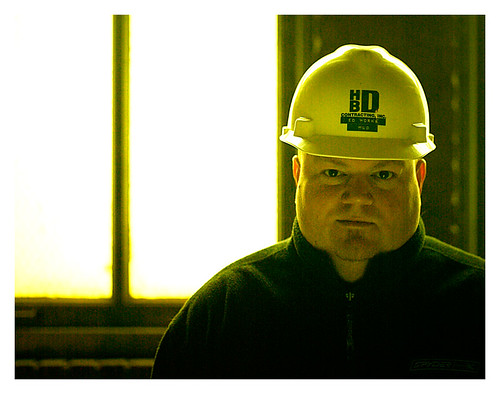person hardhat: (202, 33, 485, 379)
